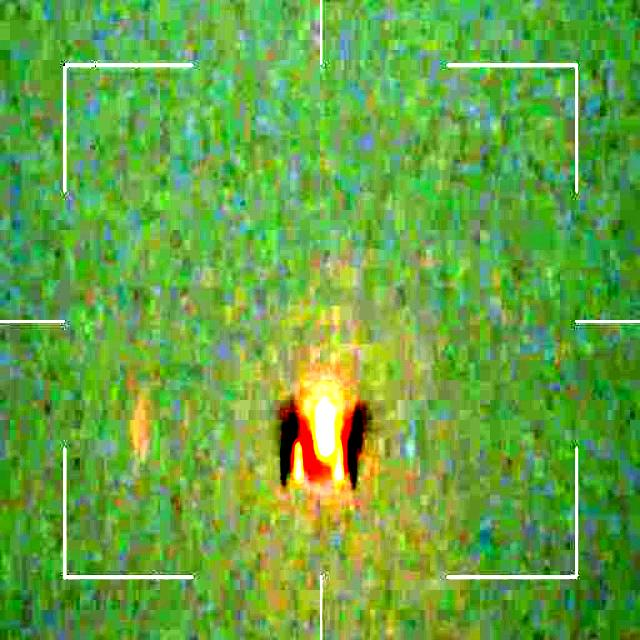bird: (275, 388, 366, 481)
